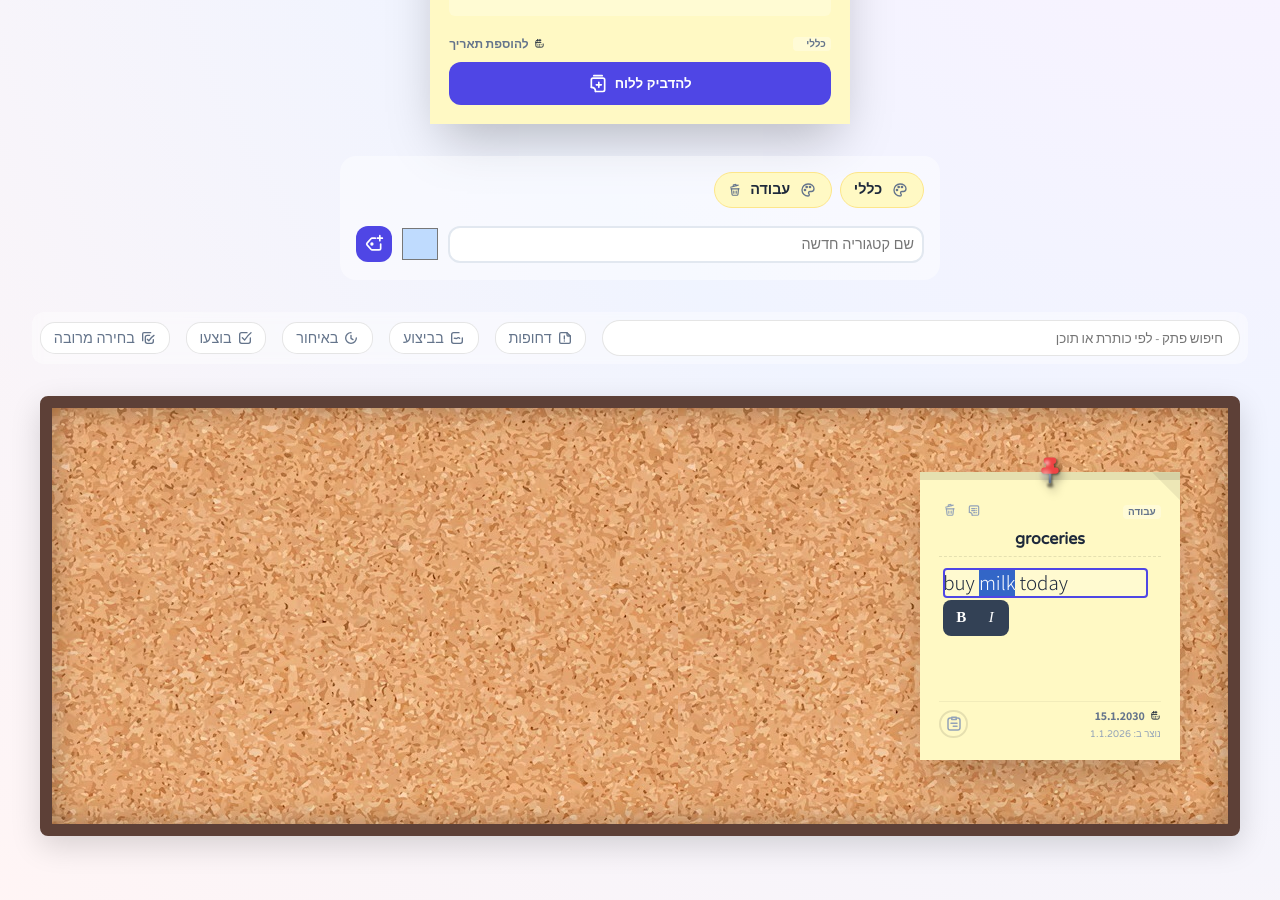
Test: note fields are exposed by name › selecting text in the note content and choosing italic wraps the selection in _italic_
The width and height of the screenshot is (1280, 900).
(page scrolled)
Click the button named "הטיית הטקסט שנבחר": (991, 618) [977,604,1005,632]
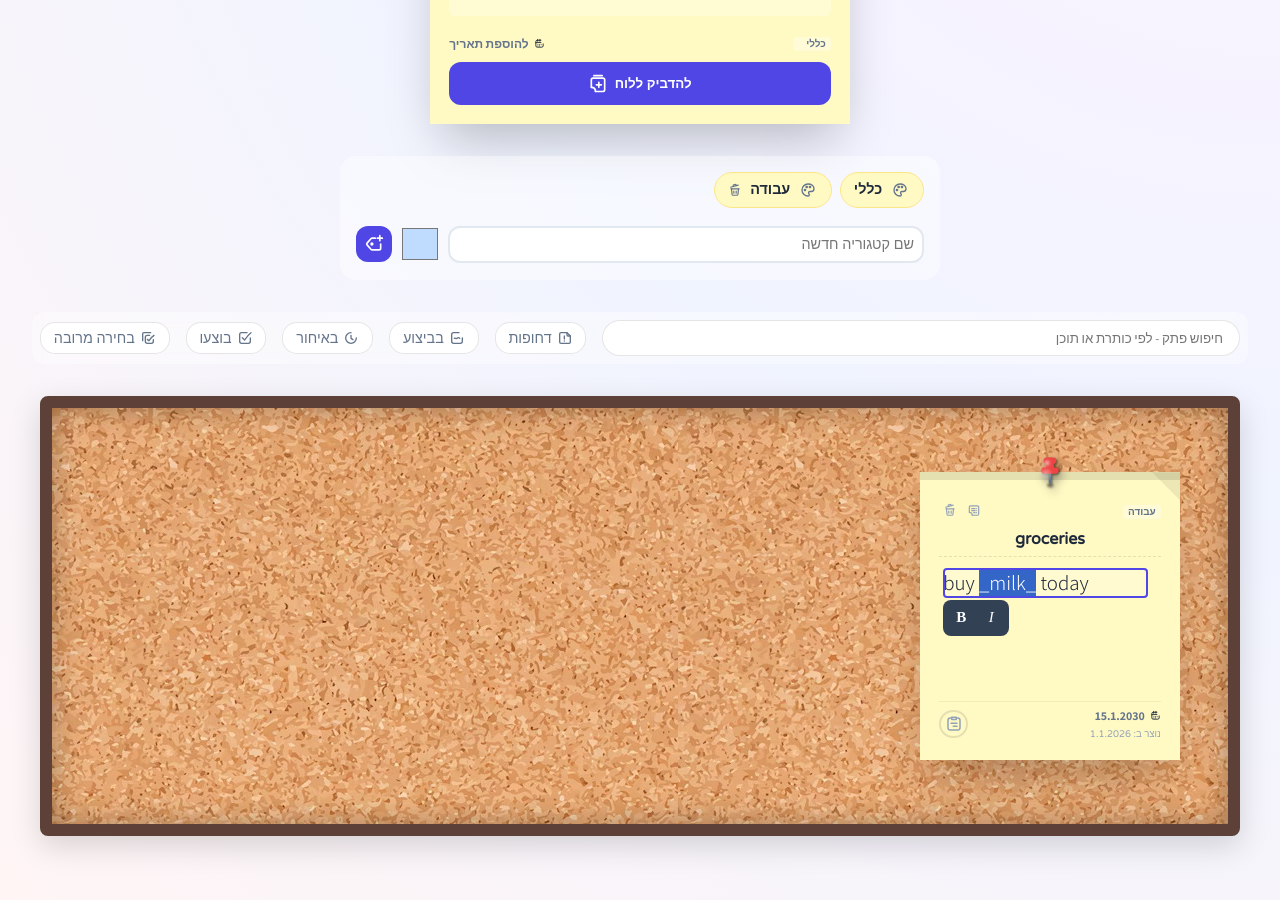
Expected: the field named "תוכן הפתק" reads "buy _milk_ today", [943,568,1148,598]
